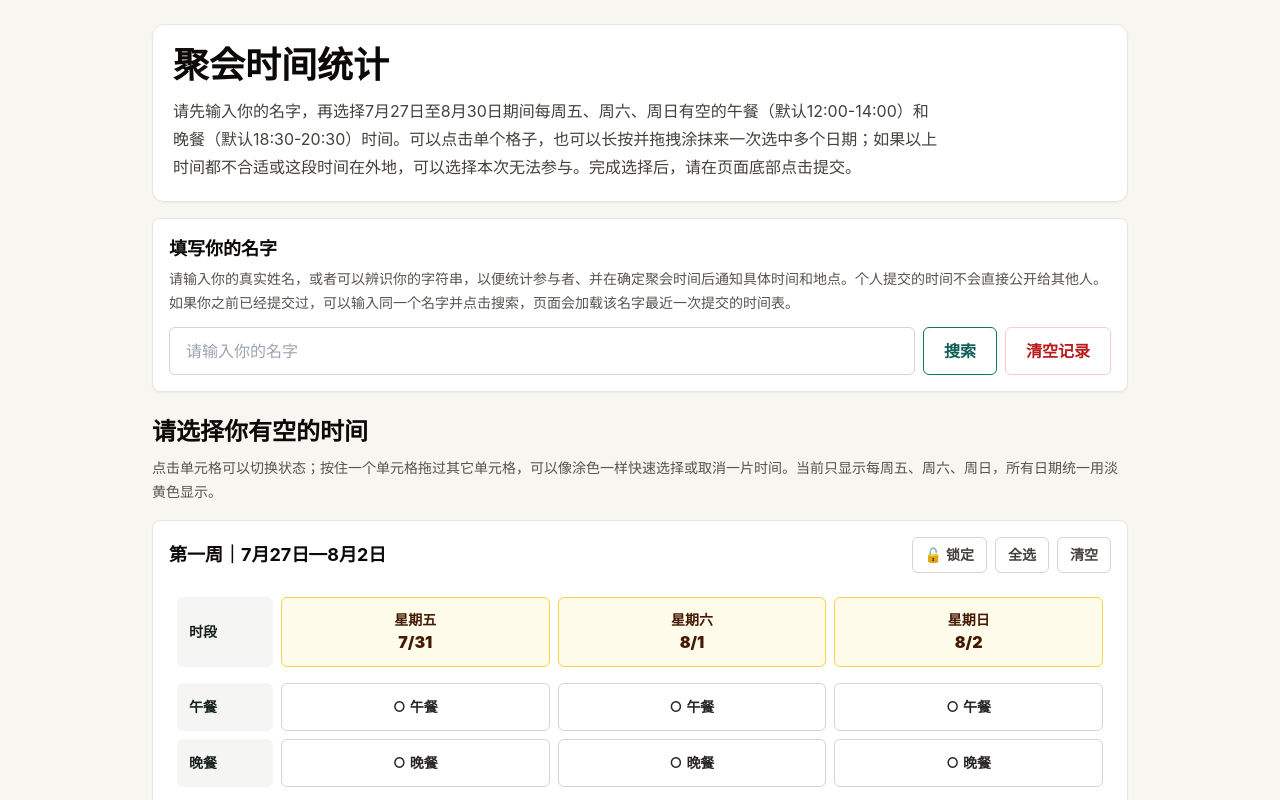
Test: App 提交流程 › 提交成功后显示成功状态
Type "小李" into the field labelled "你的名字" at (542, 351), box [169,327,915,375]
(page scrolled)
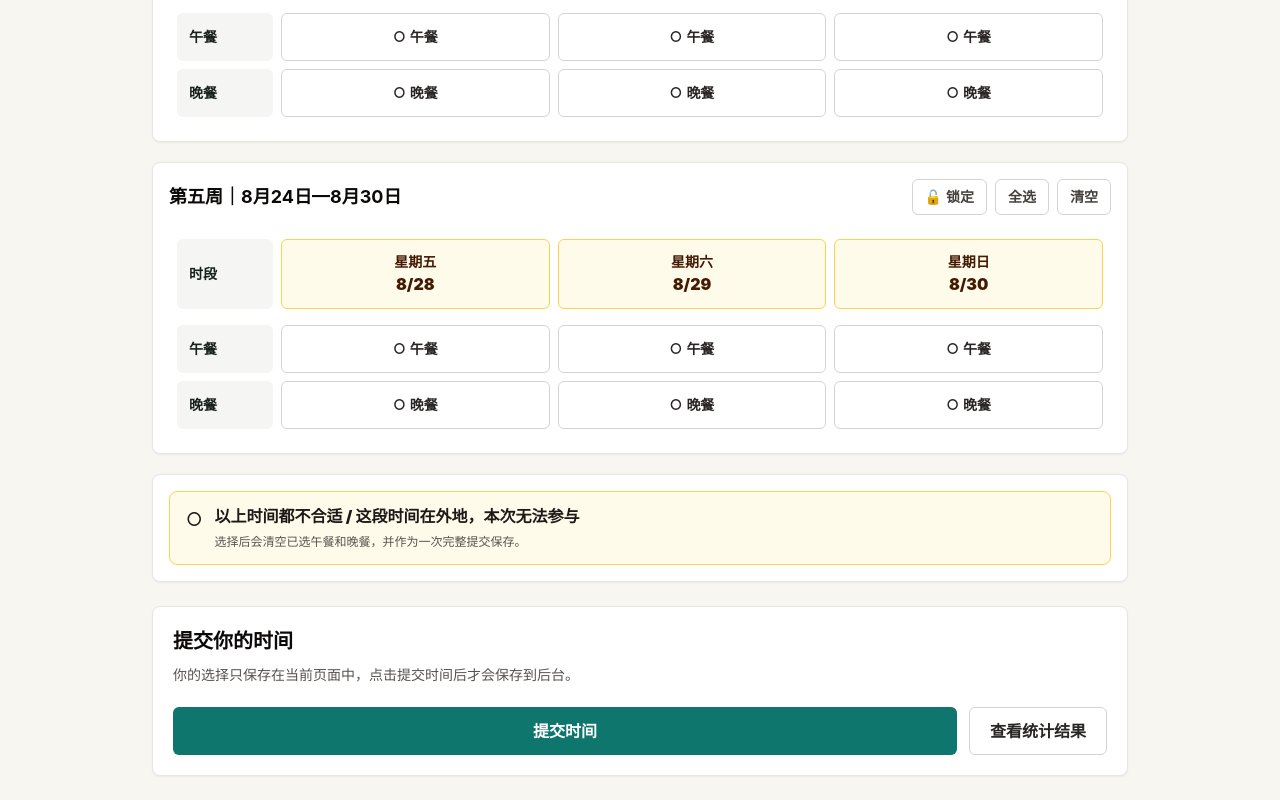
Click the button "提交时间" at (565, 731), box [173,707,957,755]
(page scrolled)
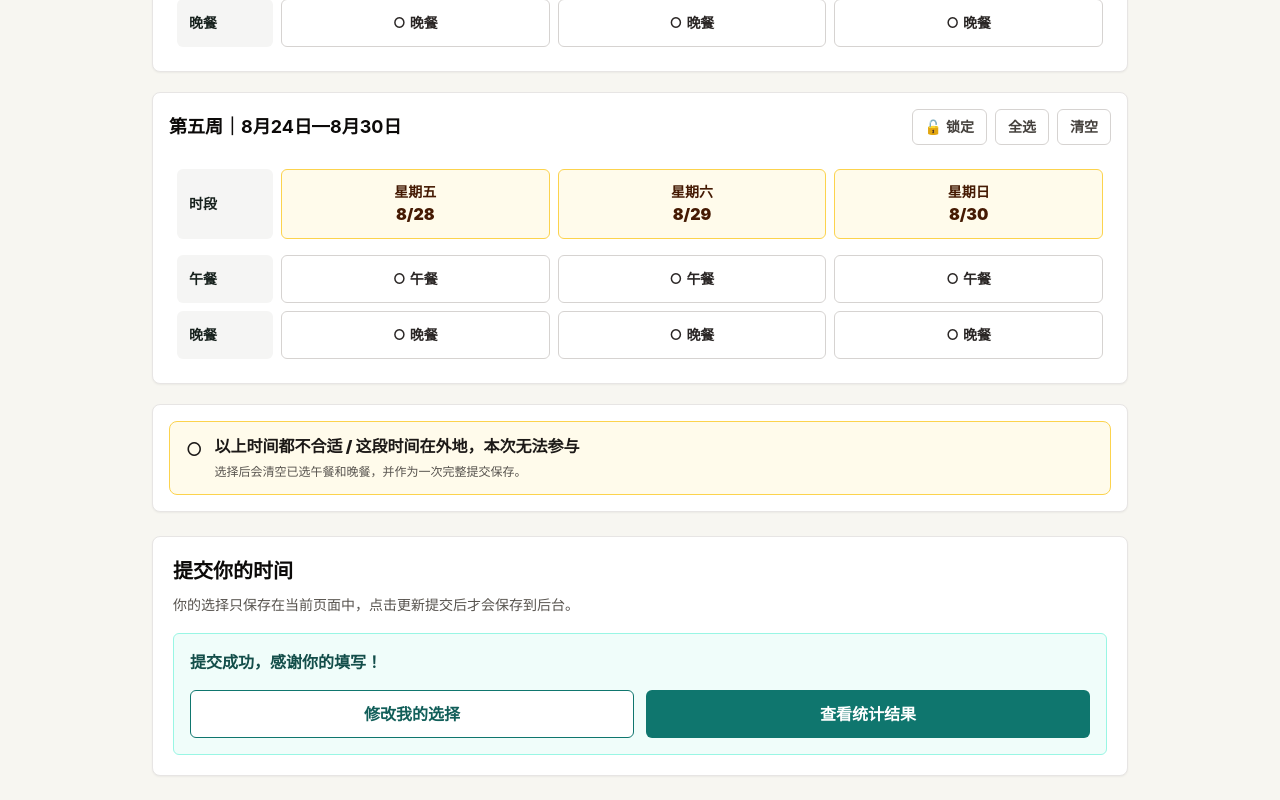
Check: the button "查看统计结果" is shown, box [646,690,1090,738]
Check: the text "提交成功，感谢你的填写！" is shown, box [190,652,382,672]
Check: the button "修改我的选择" is shown, box [190,690,634,738]
